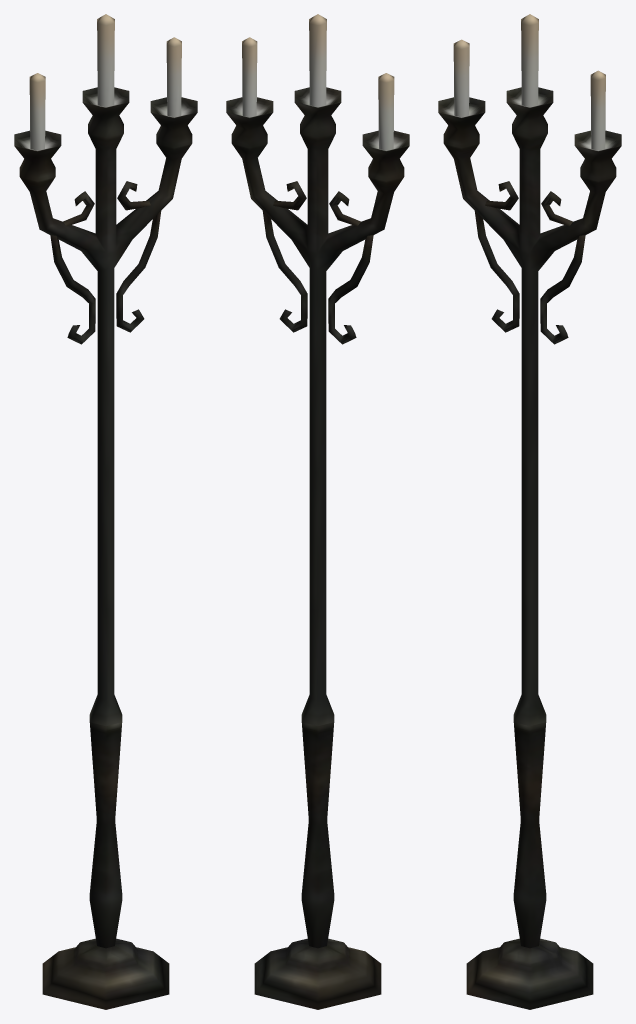
The model's file is hallowCandle.glb.
3 views of the same model, side by side, from view 1: azimuth 30°, elevation 25°; view 2: azimuth 150°, elevation 25°; view 3: azimuth 330°, elevation 25° (orthographic).
Visible parts, largest first — view 1: hallowCandle; view 2: hallowCandle; view 3: hallowCandle.
Part boxes in pixels (box(x1,y1,x2,y2)): hallowCandle: box(14, 14, 197, 1009); hallowCandle: box(226, 14, 409, 1009); hallowCandle: box(438, 14, 621, 1009).
Size of the model in its own units: 0.215 by 1.08 by 0.1285.
1 material, 1 textured.
